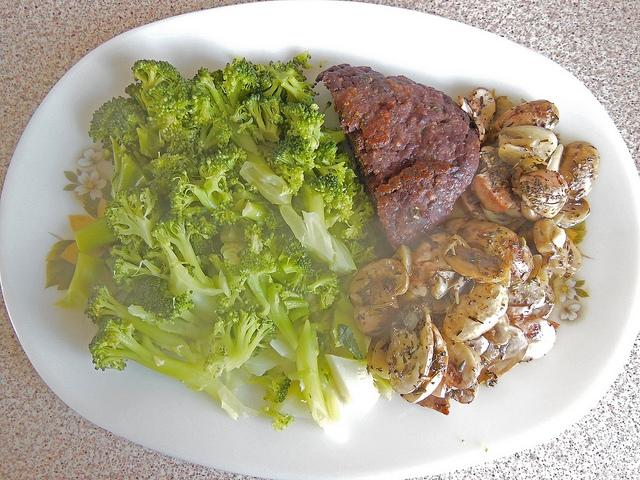broccoli: (88, 318, 245, 422), (195, 66, 292, 204), (85, 280, 196, 364), (152, 212, 230, 326), (144, 145, 246, 227), (203, 302, 277, 378), (123, 275, 214, 329), (88, 95, 152, 162), (296, 319, 330, 427), (247, 60, 320, 107), (104, 186, 154, 248), (258, 273, 298, 350), (127, 304, 210, 340), (54, 252, 104, 310), (110, 135, 150, 201), (305, 172, 354, 222), (132, 59, 180, 107), (317, 336, 342, 421), (242, 93, 282, 143), (222, 58, 260, 109), (340, 184, 374, 240), (74, 216, 120, 254), (306, 264, 341, 312), (278, 234, 315, 277), (158, 121, 198, 158), (246, 372, 292, 403), (326, 230, 357, 276), (242, 202, 288, 228), (110, 256, 152, 284), (198, 117, 233, 150), (228, 188, 270, 213), (136, 120, 162, 158), (280, 289, 309, 322), (260, 406, 294, 433), (302, 180, 324, 221), (345, 238, 379, 262), (317, 162, 348, 188), (220, 224, 247, 253), (190, 233, 223, 256), (314, 136, 338, 166)
mushroom: (457, 218, 533, 286), (386, 301, 434, 394), (480, 100, 560, 152), (438, 234, 512, 288), (397, 234, 455, 302), (444, 282, 508, 342), (401, 322, 448, 403), (348, 258, 409, 316), (430, 331, 482, 398), (476, 325, 530, 384), (497, 124, 558, 166), (469, 166, 522, 212), (560, 142, 600, 200), (354, 306, 388, 337)
